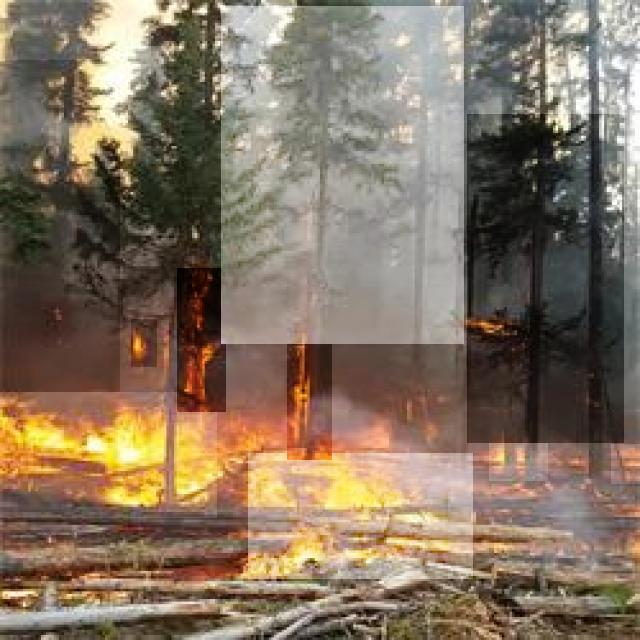Fire: (248, 453, 473, 579), (0, 392, 217, 518), (177, 268, 226, 412), (287, 337, 332, 460), (489, 435, 548, 481), (472, 315, 518, 348), (131, 319, 157, 367), (611, 444, 640, 484)
Smoke: (221, 6, 464, 344), (467, 114, 624, 443), (0, 60, 120, 392)
